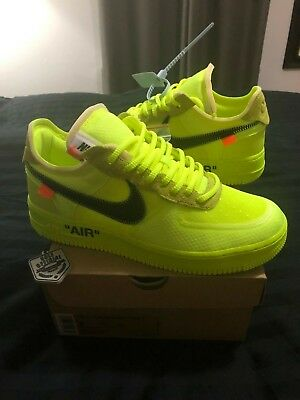Air Force One Volt: (13, 105, 290, 276), (84, 58, 275, 191)
